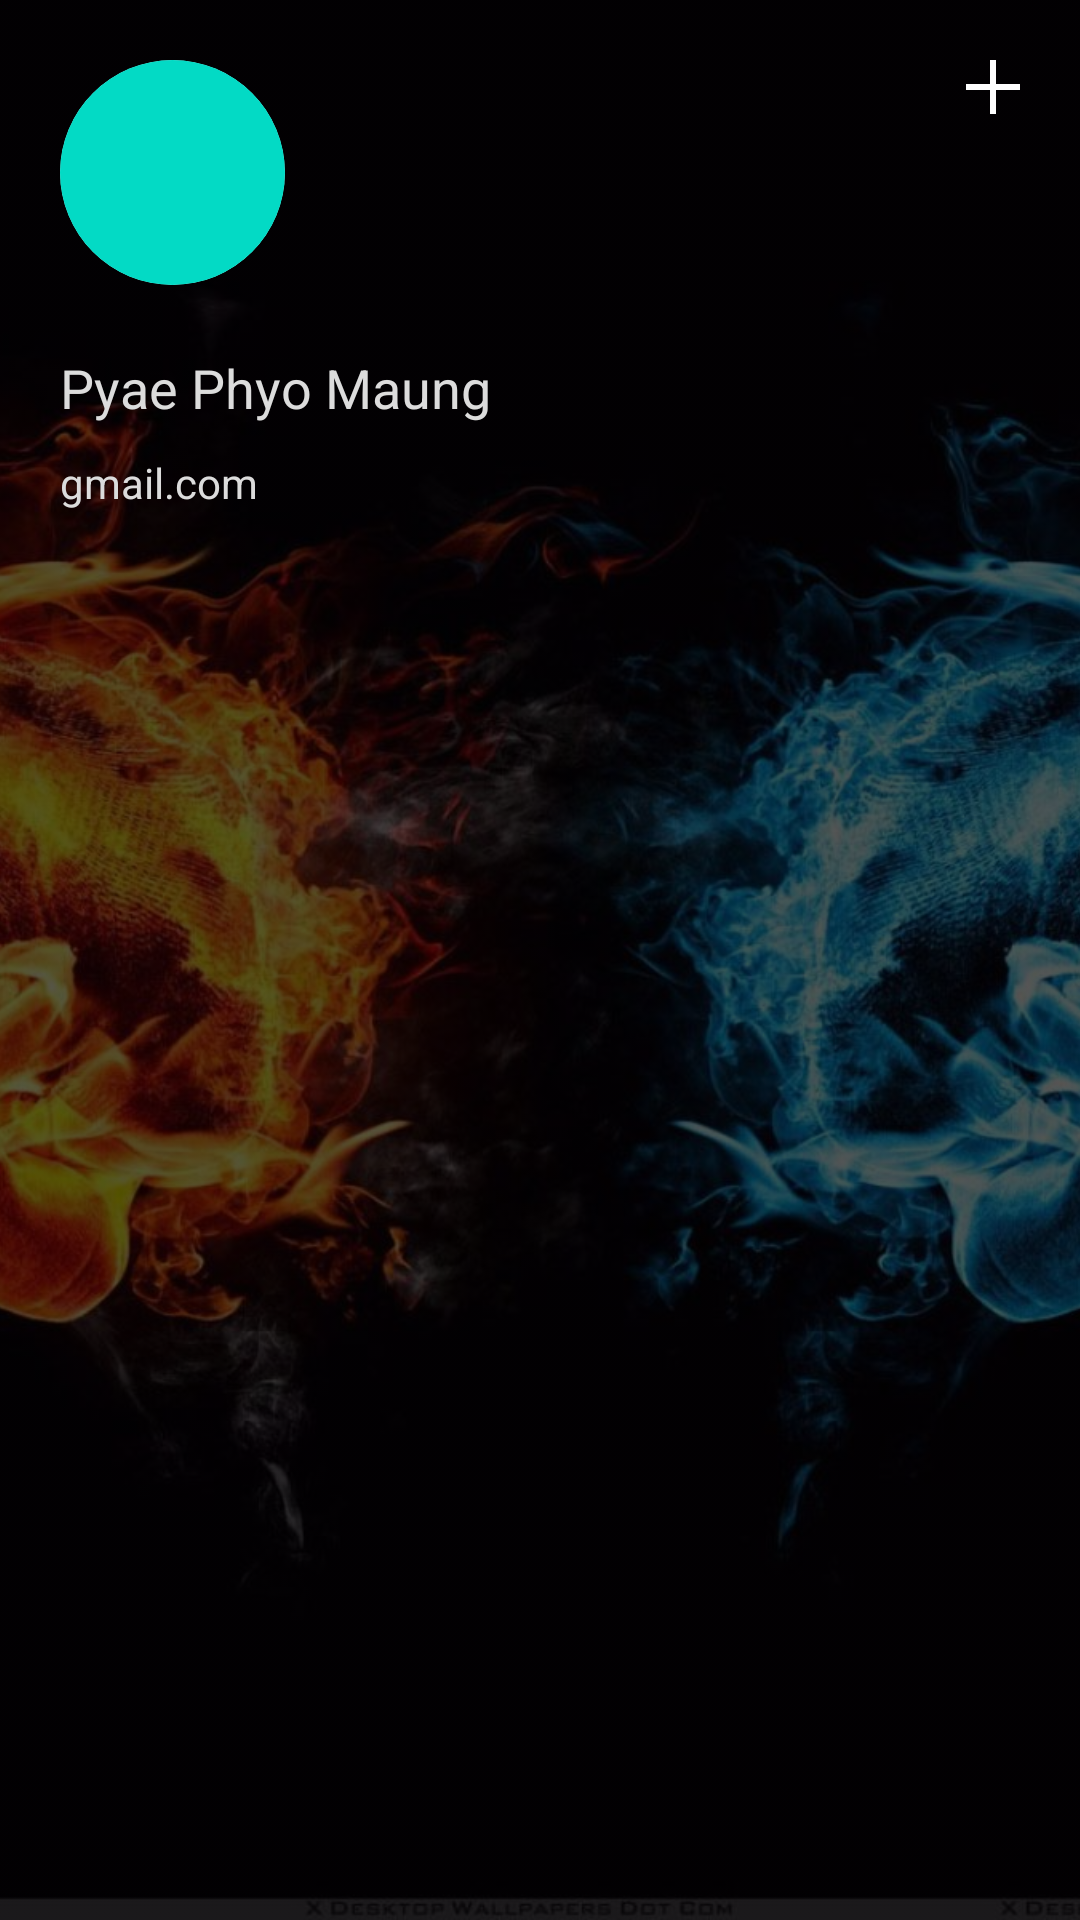

Point at icon controls on the screen. Image size 1080x1920, points as (x=x, y=y).
plus: (x=993, y=87)
